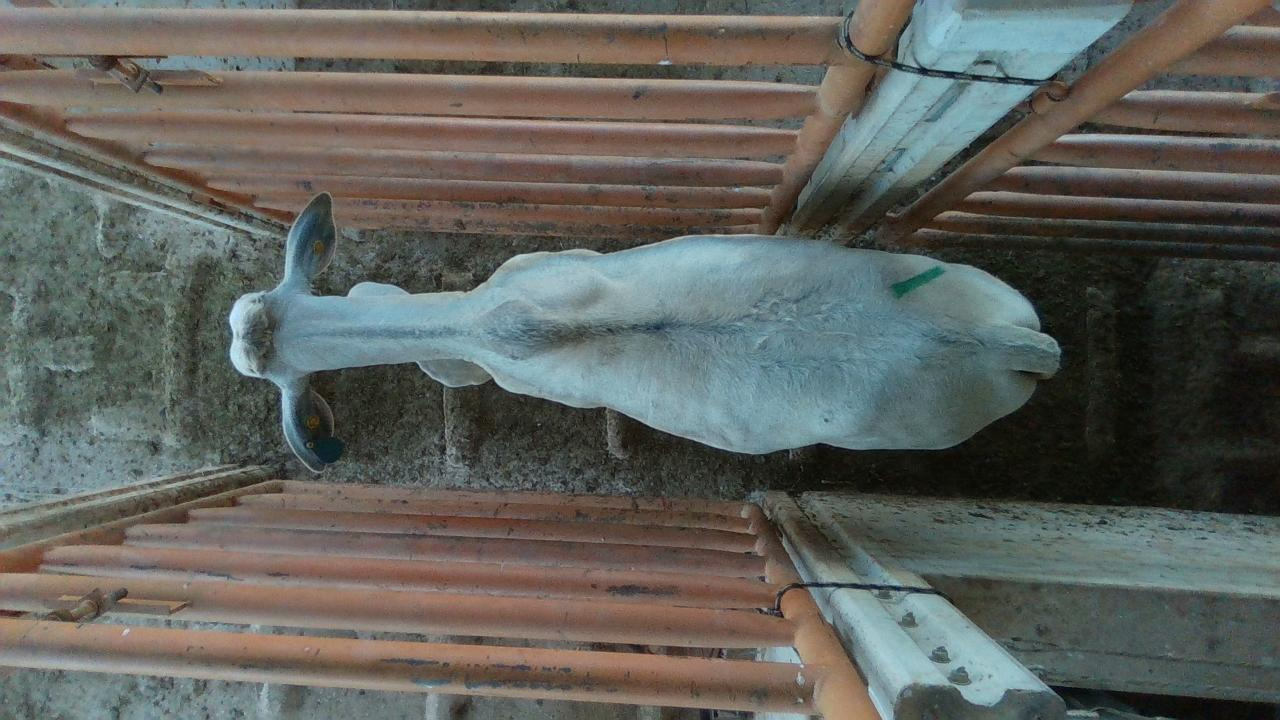cattle: (227, 189, 1062, 472)
